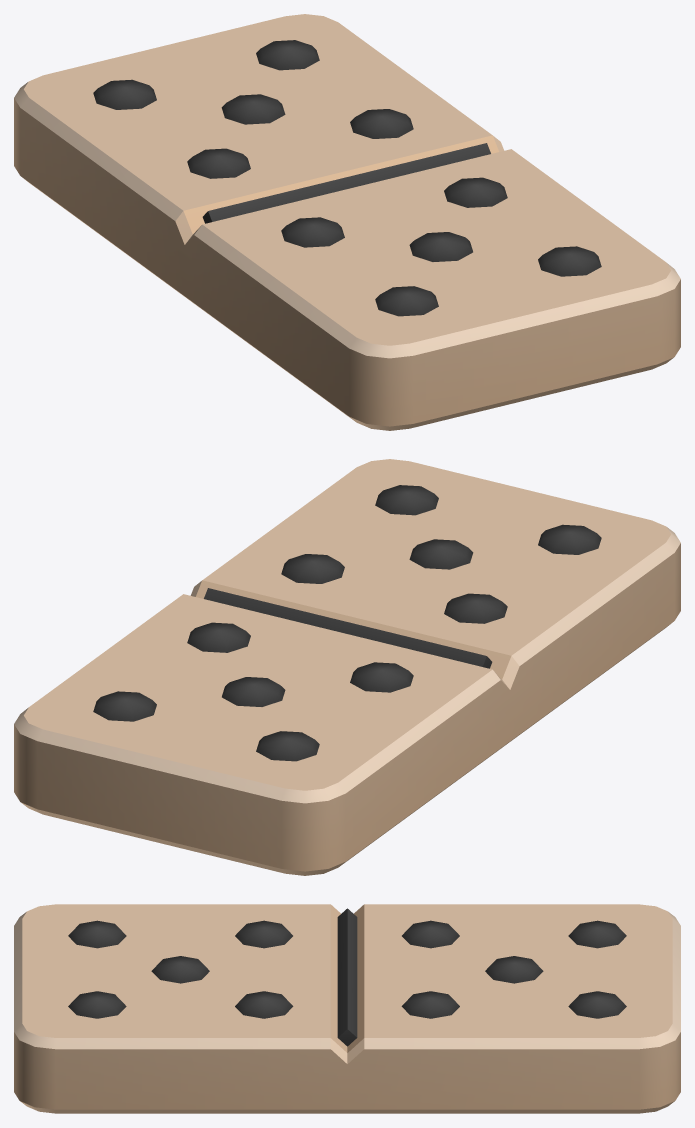
The model's file is domino_tile_5-5.obj.
3 renders of one model, top to bottom at view 1: azimuth 30°, elevation 25°; view 2: azimuth 150°, elevation 25°; view 3: azimuth 270°, elevation 25°, orthographic. The views are drawn at different scales.
Visible parts, largest first — view 1: domino_tile_5-5; view 2: domino_tile_5-5; view 3: domino_tile_5-5.
Part boxes in pixels (left/top/right/bottom): domino_tile_5-5: left=14, top=14, right=680, bottom=430; domino_tile_5-5: left=14, top=459, right=680, bottom=875; domino_tile_5-5: left=14, top=904, right=680, bottom=1113.
Bounding box in the file's own units: 1 × 0.2767 × 2.
Materials: 1 (1 with a texture image).
